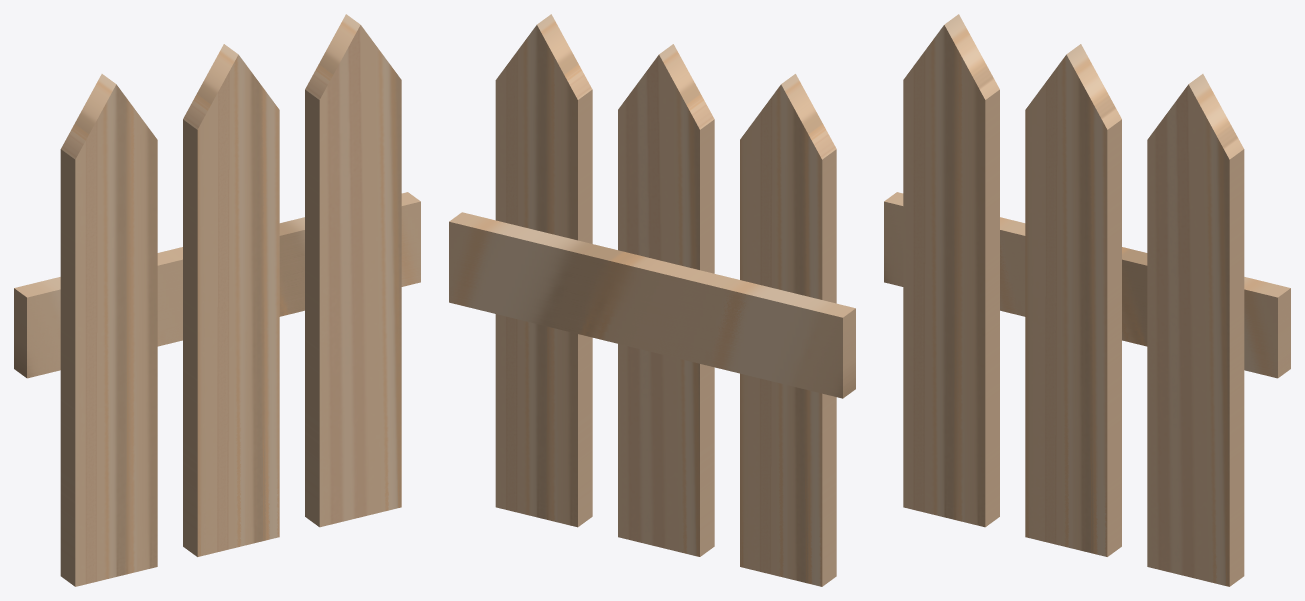
File: fence.fbx
The picture shows the model from 3 angles, left to right: view 1: azimuth 30°, elevation 25°; view 2: azimuth 150°, elevation 25°; view 3: azimuth 330°, elevation 25°; orthographic projection.
Visible parts, largest first — view 1: pCube2; view 2: pCube2; view 3: pCube2.
Boxes of the visible parts, box(x1,y1,x2,y2) form: pCube2: box(14, 14, 420, 586); pCube2: box(449, 14, 855, 586); pCube2: box(884, 14, 1290, 586).
Bounding box in the file's own units: 5.94 × 7.1 × 0.7198.
Materials: 1 (1 with a texture image).
